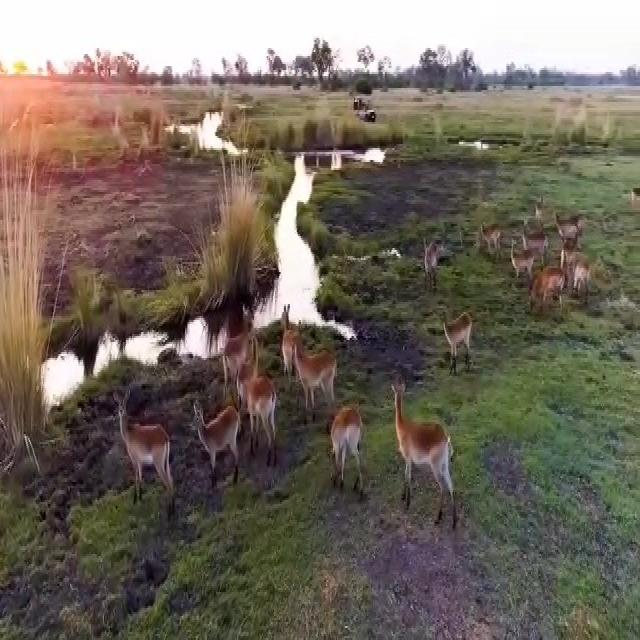Deer: (390, 379, 465, 535), (116, 394, 183, 522), (238, 365, 284, 472), (324, 403, 371, 499), (193, 399, 242, 487), (291, 339, 344, 420), (221, 310, 261, 383), (442, 306, 475, 380), (537, 256, 563, 320), (510, 230, 532, 295), (551, 213, 589, 245), (423, 230, 441, 294), (482, 210, 502, 266), (574, 259, 592, 308), (526, 223, 548, 255), (534, 190, 550, 219)
